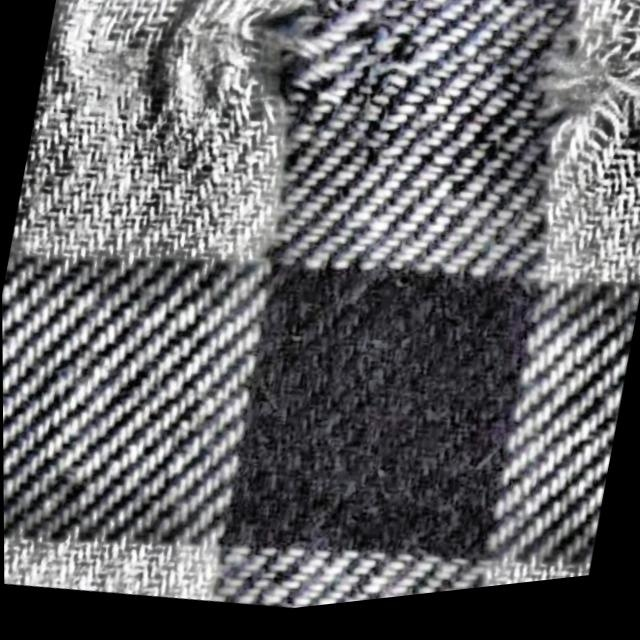Stitch: (228, 0, 640, 220)
